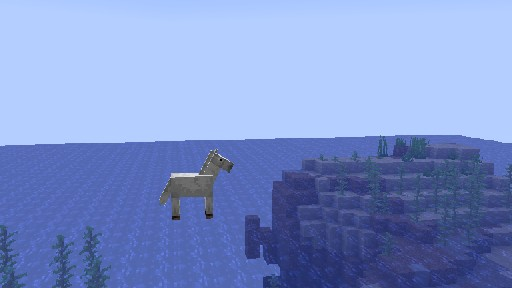horse: (157, 147, 233, 220)
